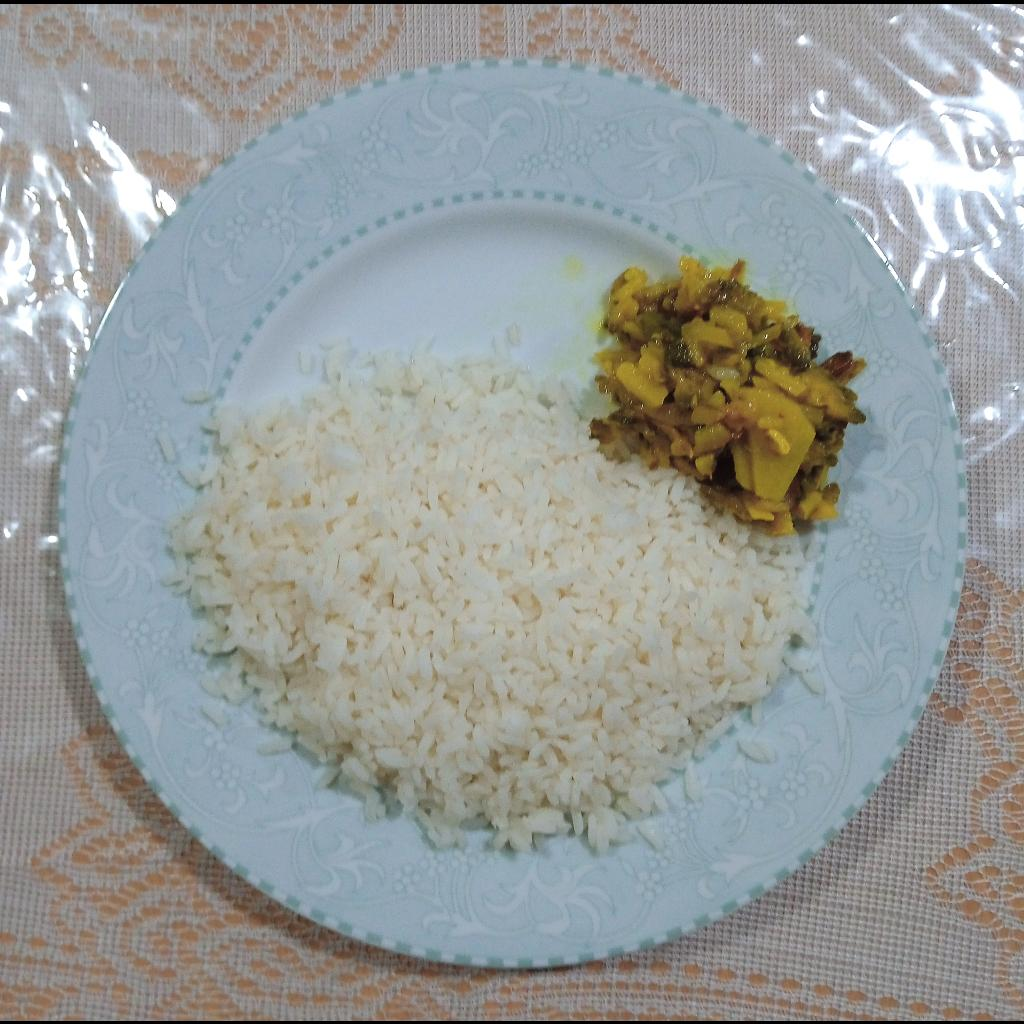rice: (183, 348, 820, 854)
vegetable: (592, 249, 874, 529)
